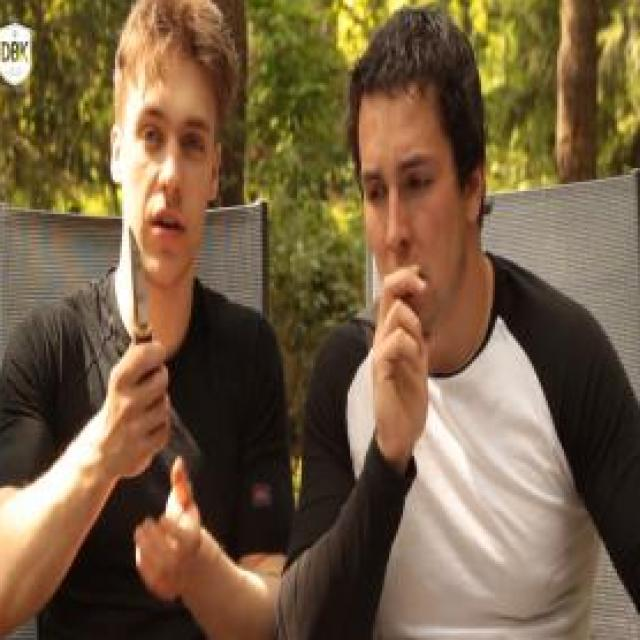knife: (120, 214, 172, 395)
